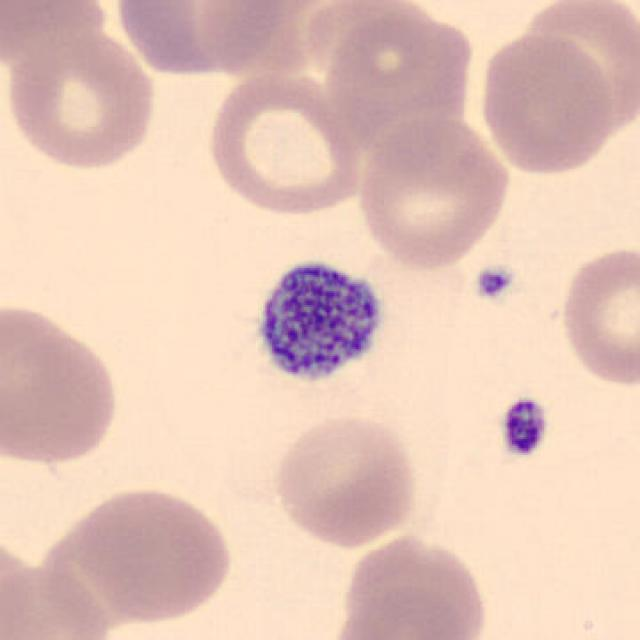Platelets: (242, 250, 393, 397), (496, 393, 551, 462), (471, 261, 517, 303)
RBC: (64, 481, 236, 628), (354, 113, 514, 271), (203, 68, 366, 218), (3, 24, 162, 174), (474, 27, 618, 178), (268, 409, 422, 550), (316, 3, 478, 127), (0, 317, 124, 468), (512, 0, 640, 141), (338, 531, 490, 638), (110, 0, 289, 79), (555, 240, 638, 390), (0, 553, 114, 640), (327, 583, 471, 640), (2, 2, 114, 44)
